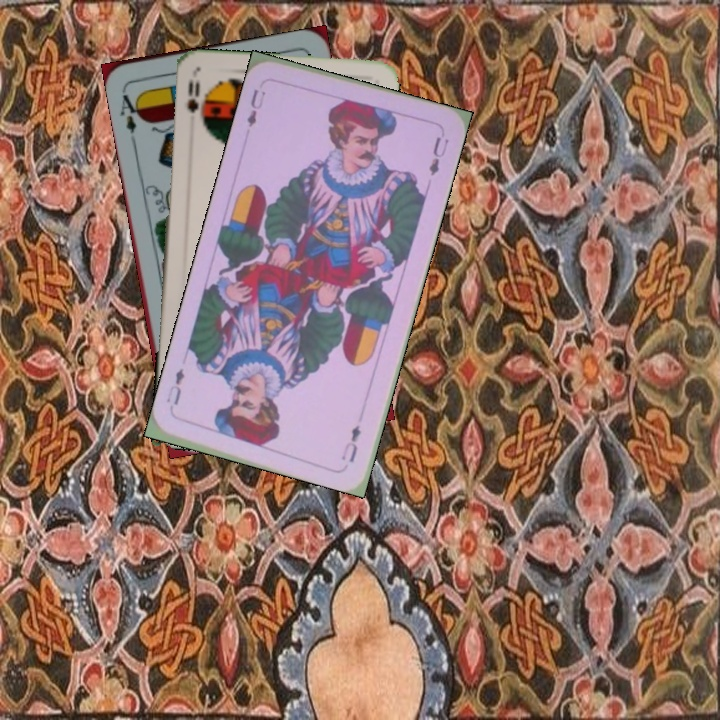EA: (116, 85, 145, 144)
EU: (242, 85, 268, 130), (338, 421, 364, 465)
SO: (183, 75, 203, 116)
